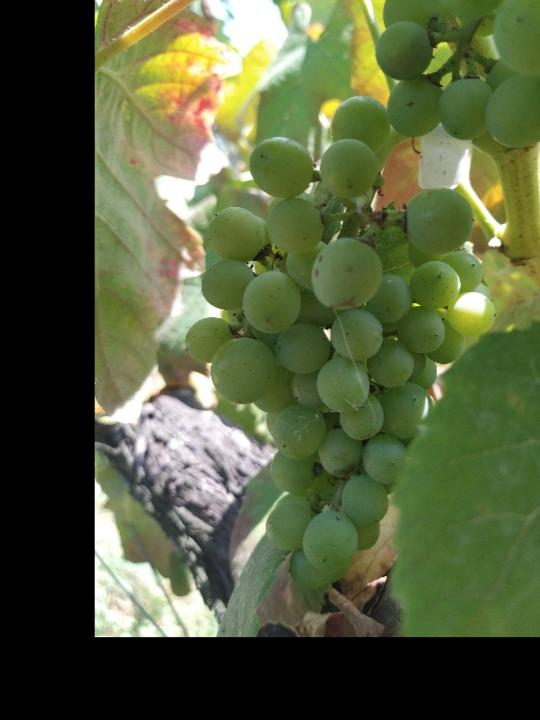grape: (183, 95, 500, 600)
